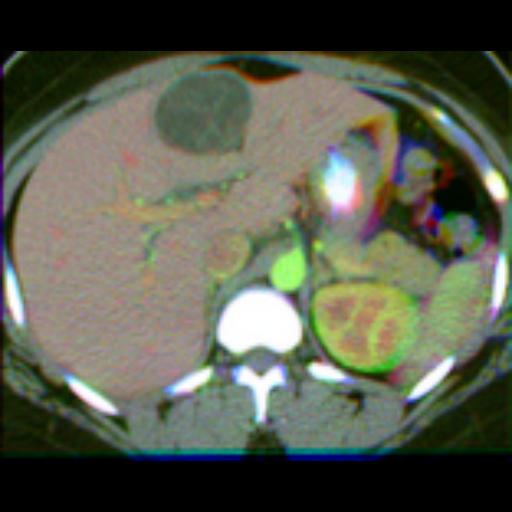Cyst: (154, 72, 252, 153)
